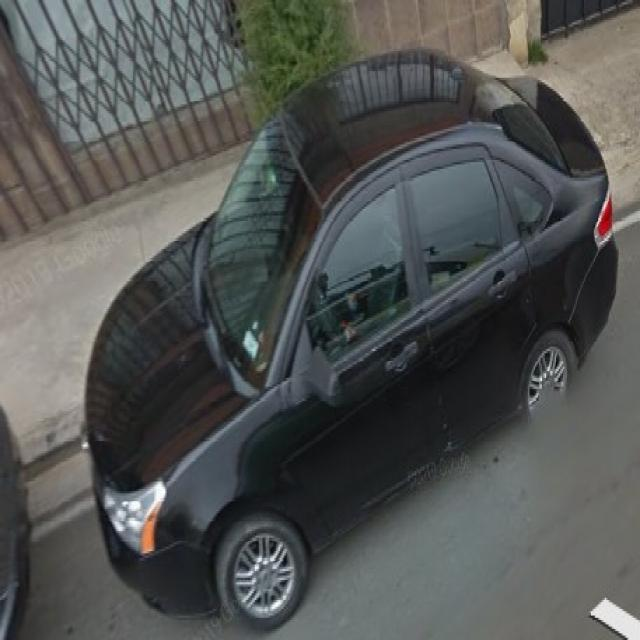Car: (82, 72, 618, 619)
